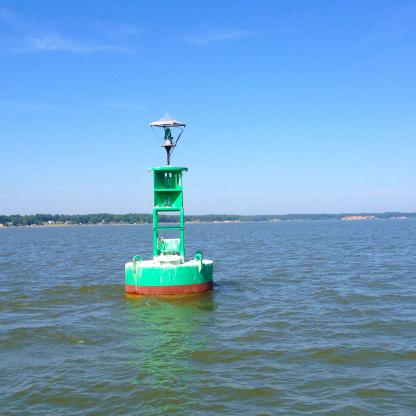Buoy: (122, 160, 216, 298)
